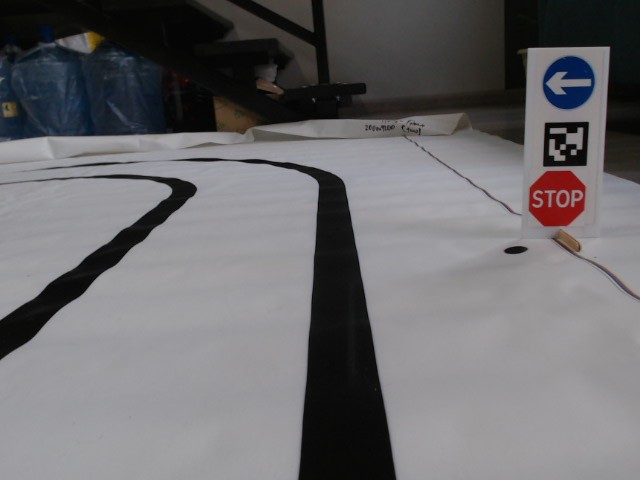Stop: (526, 168, 588, 228)
